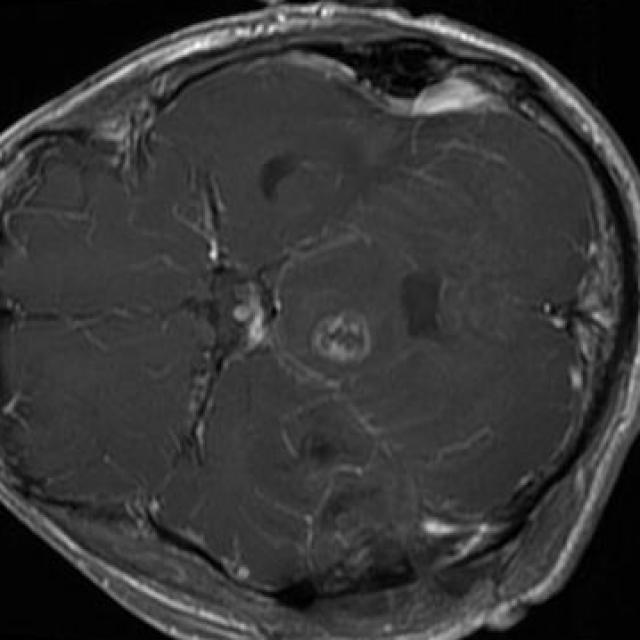glioma: (308, 308, 376, 367)
